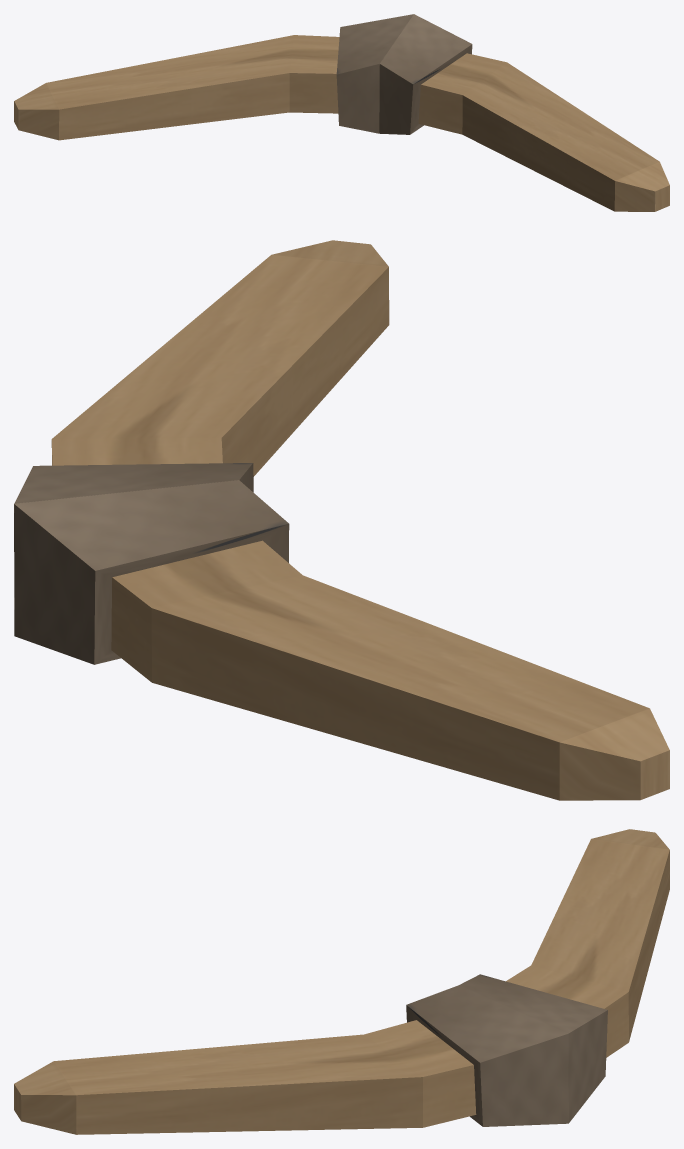
Rendered from Boomerang.fbx.
The picture shows the model from 3 angles, top to bottom: view 1: azimuth 30°, elevation 25°; view 2: azimuth 150°, elevation 25°; view 3: azimuth 270°, elevation 25°; orthographic projection. The views are drawn at different scales.
Visible parts, largest first — view 1: Boomerang; view 2: Boomerang; view 3: Boomerang.
Part boxes in pixels (box(x1,y1,x2,y2)): Boomerang: box(14, 14, 669, 211); Boomerang: box(14, 240, 669, 800); Boomerang: box(14, 829, 669, 1134).
Bounding box in the file's own units: 25.34 × 3.99 × 26.21.
